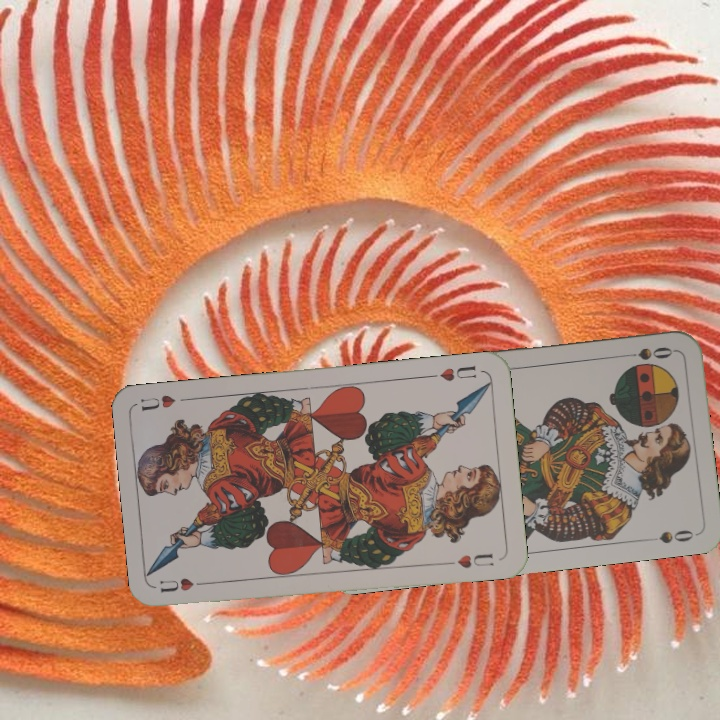HU: (425, 361, 479, 384), (155, 574, 213, 595)
SO: (617, 342, 676, 363)
